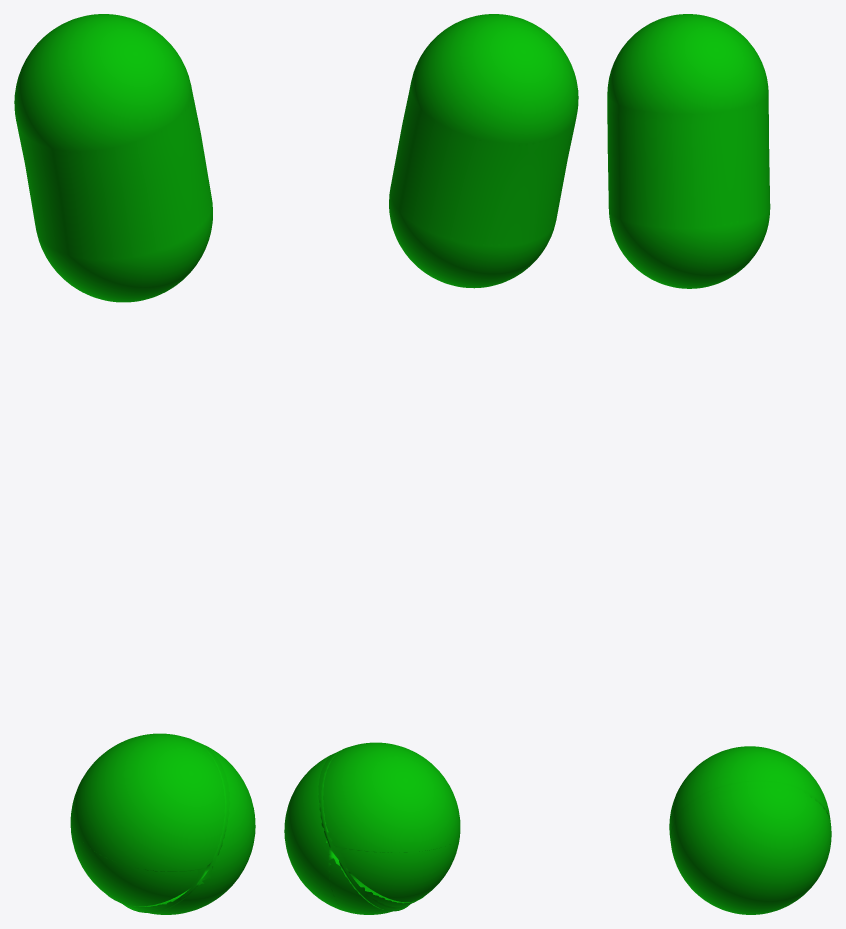
File: Drawing 1.model.glb
3 views of the same model, side by side, from view 1: azimuth 30°, elevation 25°; view 2: azimuth 150°, elevation 25°; view 3: azimuth 270°, elevation 25° (orthographic). The views are drawn at different scales.
Parts seen in each view (by area): view 1: undefined-world-export (×6); view 2: undefined-world-export (×6); view 3: undefined-world-export (×5).
Boxes of the visible parts, <box> form: undefined-world-export (×6): <box>14,14,255,914</box>; undefined-world-export (×6): <box>284,14,578,914</box>; undefined-world-export (×5): <box>607,14,831,914</box>.
Size of the model in its own units: 0.0814 by 0.2882 by 0.0695.
